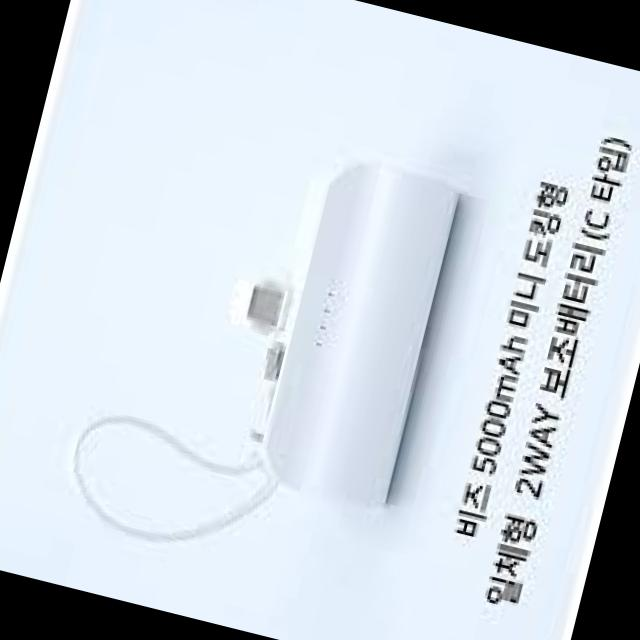portable-charger: (196, 132, 471, 518)
